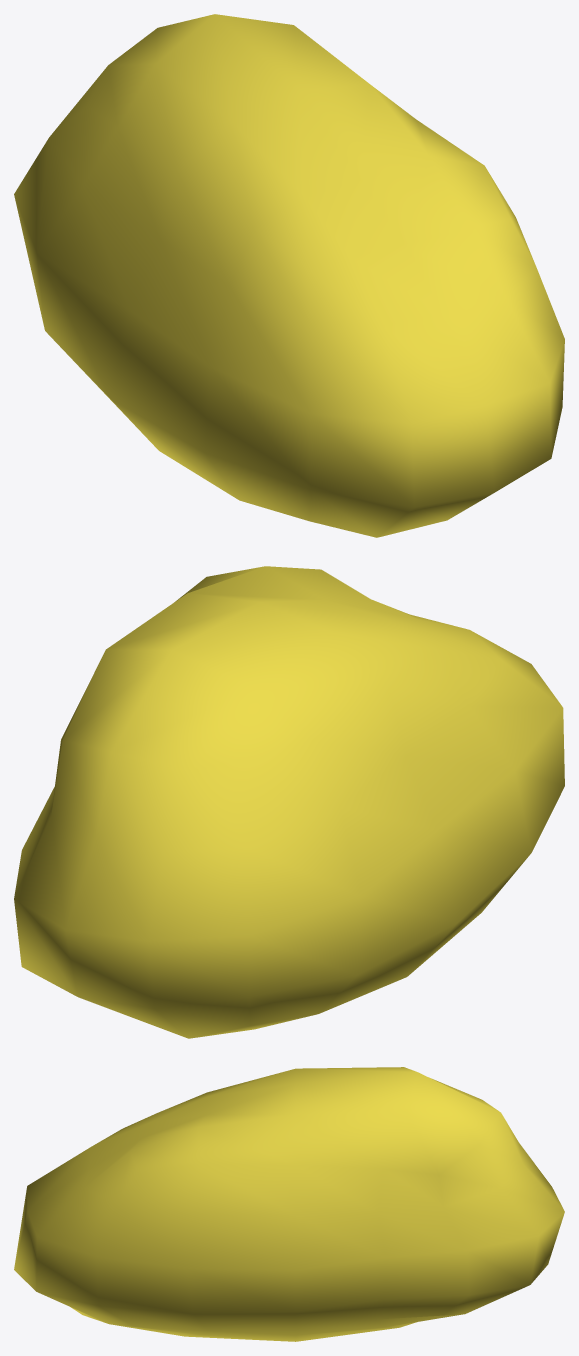
File: Potato2.glb
3 views of the same model, one above another, from view 1: azimuth 30°, elevation 25°; view 2: azimuth 150°, elevation 25°; view 3: azimuth 270°, elevation 25° (orthographic). The views are drawn at different scales.
Parts seen in each view (by area): view 1: Cube.024; view 2: Cube.024; view 3: Cube.024.
Part boxes in pixels (x1,y1,x2,y2): Cube.024: (14, 14, 564, 537); Cube.024: (14, 566, 564, 1038); Cube.024: (14, 1067, 564, 1341).
Size of the model in its own units: 0.0892 by 0.0897 by 0.1661.
